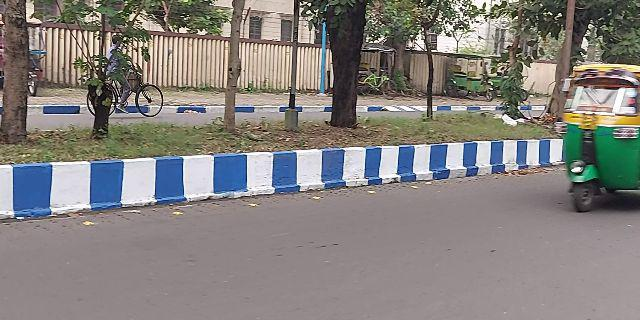Autorickshaw: (561, 61, 640, 215)
Cycle: (89, 69, 167, 119)
